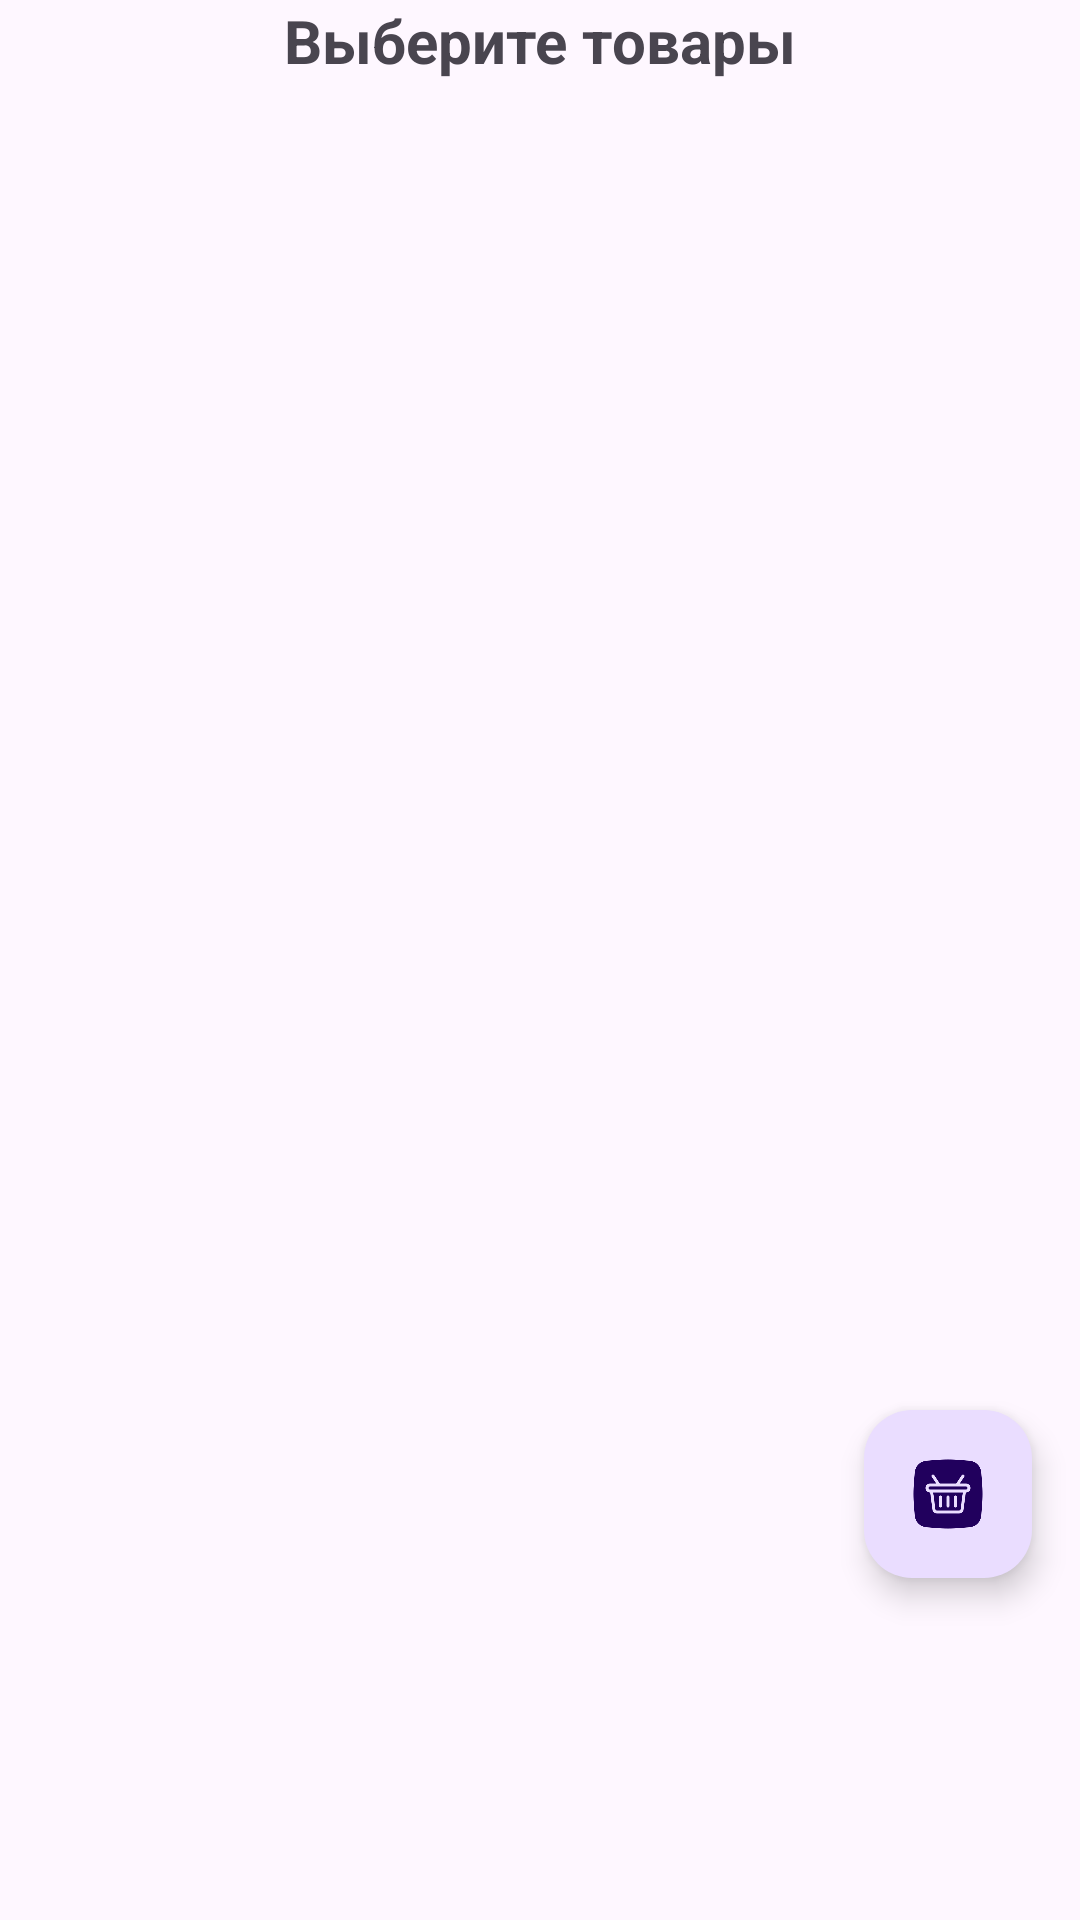

Screen size 1080w x 1920h. Icon name, then its box in pixels as (x1, y1, x2, y2):
cart: (913, 1459, 983, 1529)
